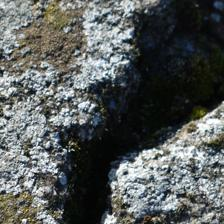Crack: (62, 4, 172, 213), (85, 48, 224, 160)
